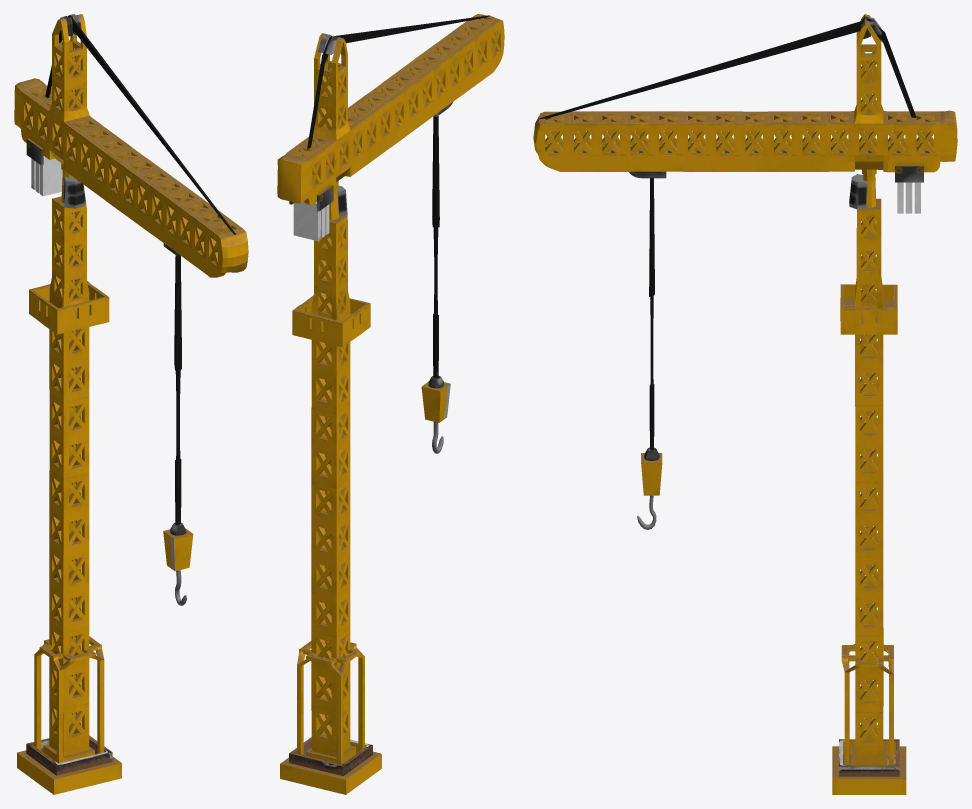
The model's file is Crane_Torn_wire _ taller textured.fbx.
3 renders of one model, left to right at view 1: azimuth 30°, elevation 25°; view 2: azimuth 150°, elevation 25°; view 3: azimuth 270°, elevation 25°, orthographic. The views are drawn at different scales.
Visible parts, largest first — view 1: pCube15; view 2: pCube15; view 3: pCube15.
Boxes of the visible parts, left/top/right/bottom form: pCube15: left=14, top=14, right=248, bottom=794; pCube15: left=277, top=14, right=504, bottom=794; pCube15: left=533, top=14, right=957, bottom=794.
Size of the model in its own units: 4.18 by 44.53 by 22.53.
1 material, 1 textured.
